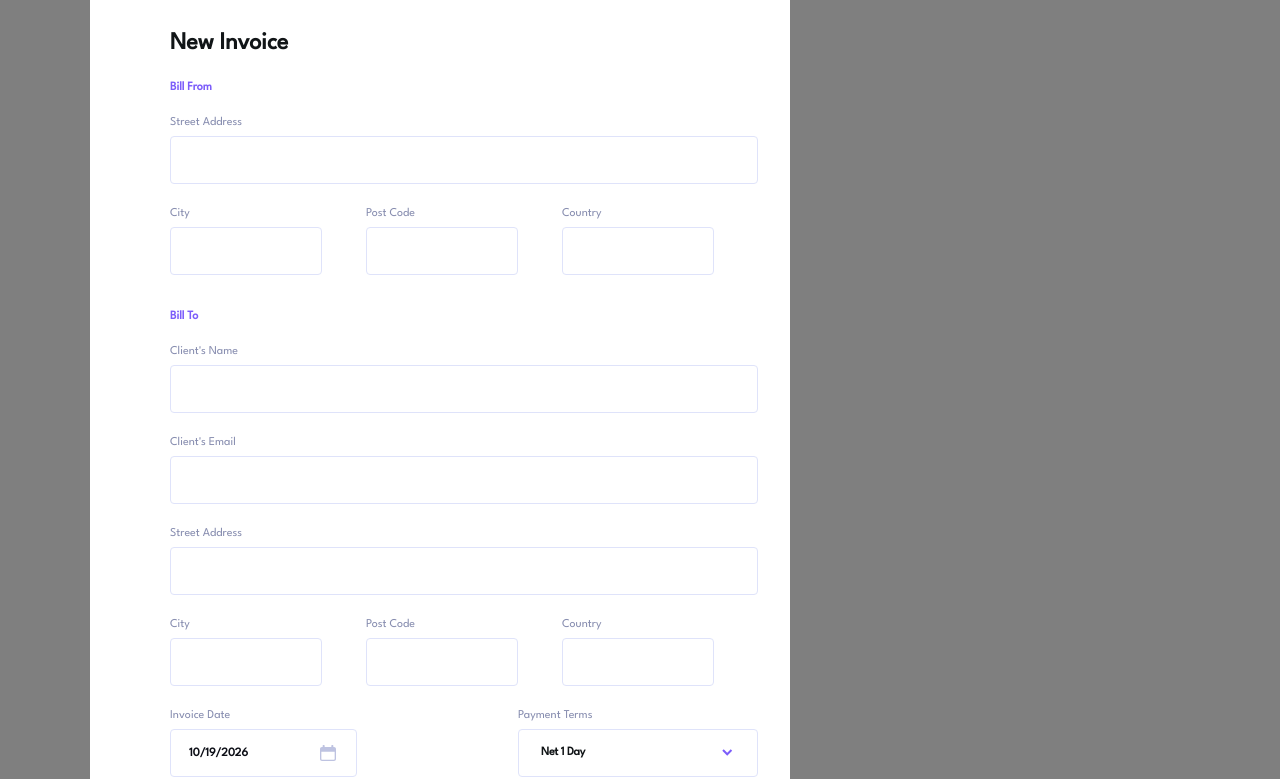
NewInvoiceForm - basic DOM elements › renders payment terms options
This screenshot has width=1280, height=779.
Click the element with test id "dropdownHeader" at (563, 753), box x1=541 y1=747 x2=733 y2=760
(page scrolled)
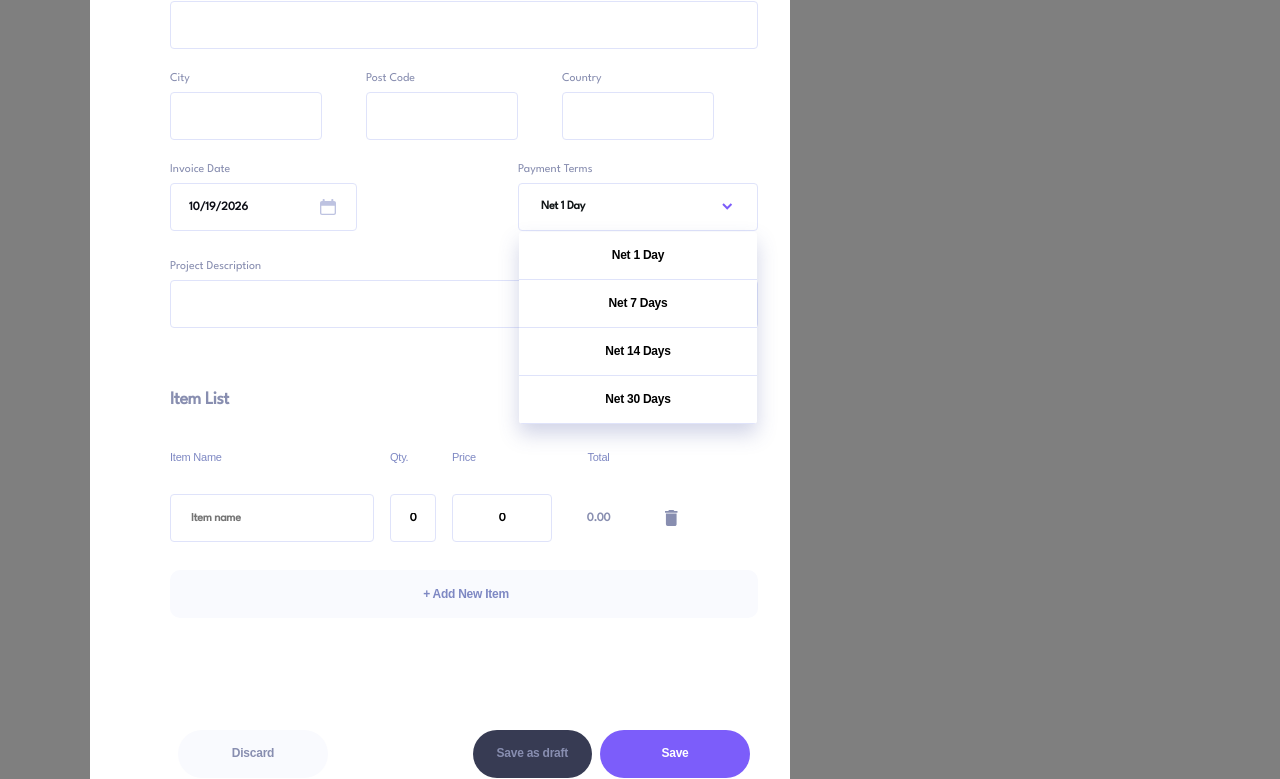
Now the list item with test id "Net 7 Days-testID" is shown, box x1=519 y1=280 x2=757 y2=328
Now the list item with test id "Net 14 Days-testID" is shown, box x1=519 y1=328 x2=757 y2=376
Now the list item with test id "Net 30 Days-testID" is shown, box x1=519 y1=376 x2=757 y2=424
